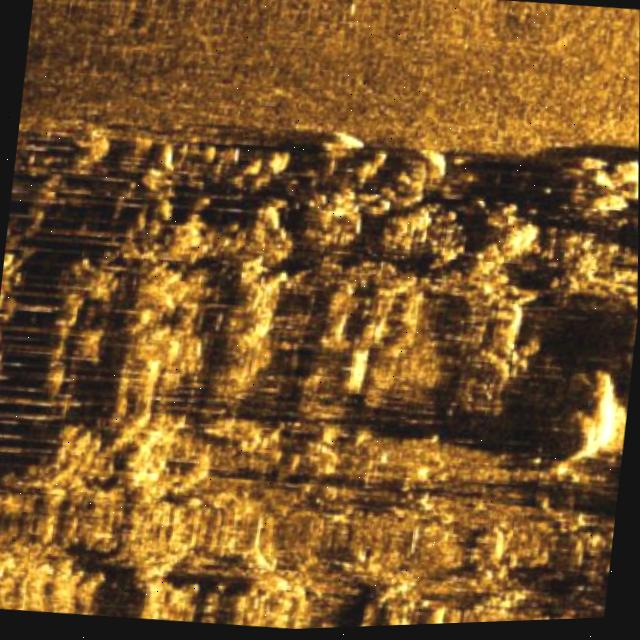bedrock group: (0, 87, 639, 640)
